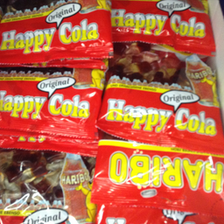candy: (100, 36, 224, 148), (87, 134, 224, 222), (1, 135, 108, 224), (1, 48, 118, 129)
